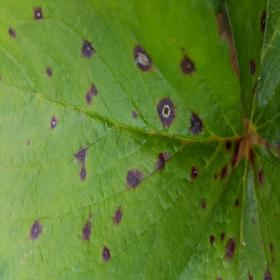Leaf Spot: (176, 143, 279, 279), (223, 0, 279, 148)
